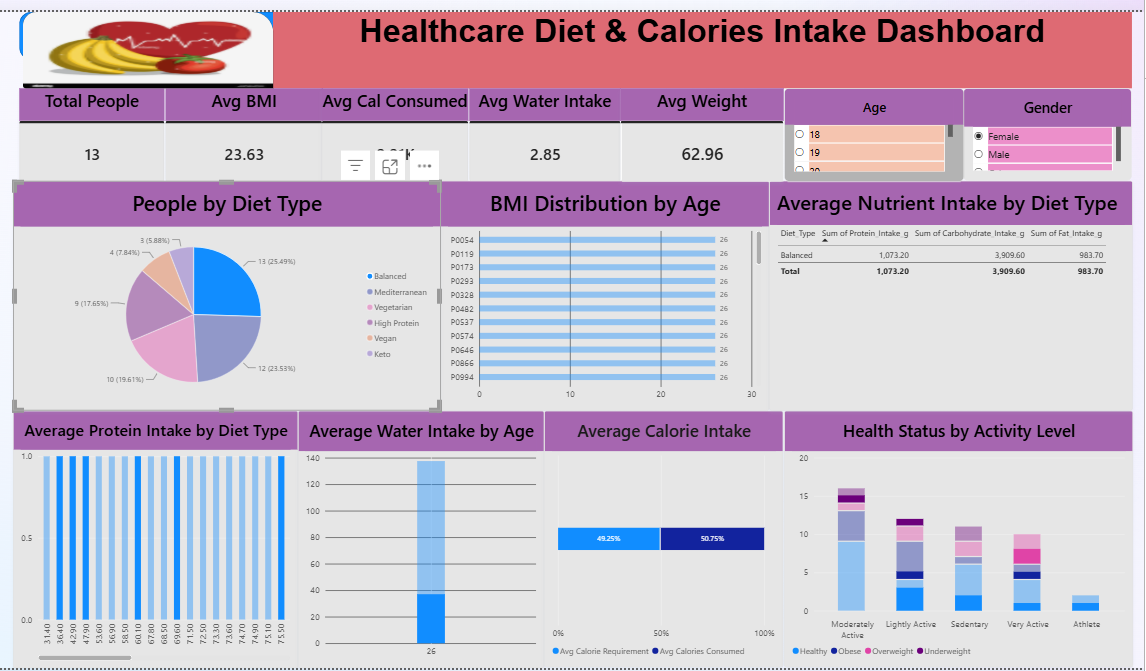

The page's visual inventory and layout, read from the dashboard file:
{"tool":"powerbi","page":{"name":"Healthcare Diet Dashboard","canvas":[1920,1080],"ordinal":0},"visuals":[{"type":"shape","box":[68.4,0,566.9,78.2],"z":0},{"type":"textbox","box":[485.8,0,1414.1,125.6],"z":1},{"type":"cardVisual","title":"Total People","fields":{"Data":["DietData.Total People"]},"box":[68.4,124.6,239.5,153.9],"z":2},{"type":"cardVisual","title":"Avg BMI","fields":{"Data":["DietData.Average BMI"]},"box":[307.9,124.6,259,153.9],"z":3},{"type":"cardVisual","title":"Avg Cal Consumed","fields":{"Data":["DietData.Avg Calories Consumed"]},"box":[566.9,124.6,241.9,153.9],"z":4},{"type":"cardVisual","title":"Avg Water Intake","fields":{"Data":["DietData.Avg Water Intake"]},"box":[808.8,124.6,249.2,153.9],"z":5},{"type":"clusteredBarChart","title":"BMI Distribution by Age","fields":{"Category":["DietData.Person_ID"],"Y":["Sum(DietData.Age)"]},"box":[761.6,277.9,541.3,378.7],"z":9},{"type":"lineStackedColumnComboChart","title":"Average Protein Intake by Diet Type","fields":{"Category":["DietData.Protein_Intake_g"],"Y":["CountNonNull(DietData.Diet_Type)"]},"box":[57.6,656.6,469.3,424],"z":10},{"type":"lineClusteredColumnComboChart","title":"Average Water Intake by Age","fields":{"Category":["DietData.Age"],"Y":["Sum(DietData.Water_Intake_Liters)"]},"box":[526.9,656.6,405.5,424],"z":11},{"type":"hundredPercentStackedBarChart","title":"Average Calorie Intake","fields":{"Y":["DietData.Avg Calorie Requirement","DietData.Avg Calories Consumed"]},"box":[933.4,657.3,393.4,422.7],"z":12},{"type":"columnChart","title":"Health Status by Activity Level","fields":{"Category":["DietData.Activity_Level"],"Series":["DietData.Health_Status"],"Y":["CountNonNull(DietData.Person_ID)"]},"box":[1326.8,657.3,574.2,422.7],"z":13},{"type":"pieChart","title":"People by Diet Type","fields":{"Category":["DietData.Diet_Type"],"Y":["CountNonNull(DietData.Person_ID)"]},"box":[57.6,277.9,703.9,378.7],"z":14},{"type":"tableEx","title":"Average Nutrient Intake by Diet Type","fields":{"Values":["DietData.Diet_Type","Sum(DietData.Protein_Intake_g)","Sum(DietData.Carbohydrate_Intake_g)","Sum(DietData.Fat_Intake_g)"]},"box":[1302.3,278.5,598.6,378.7],"z":15},{"type":"listSlicer","fields":{"Values":["DietData.Gender"]},"box":[1622,125.6,277.9,152.3],"z":16},{"type":"listSlicer","fields":{"Values":["DietData.Age"]},"box":[1326.8,124.6,295.6,153.9],"z":17},{"type":"cardVisual","title":"Avg Weight","fields":{"Data":["DietData.Average Weight"]},"box":[1058,124.6,268.8,153.9],"z":18},{"type":"image","box":[74.1,0,411.7,125.6],"z":19}]}

Visuals, with their boxes on the page's 1920x1080 design canvas (x1, y1, x2, y2). These are canvas units, not pixel positions in the 1146x671 screenshot, which may show the page scaled, cropped or inside an application window:
shape: [x1=68, y1=0, x2=635, y2=78]
textbox: [x1=486, y1=0, x2=1900, y2=126]
"Total People" cardVisual: [x1=68, y1=125, x2=308, y2=278]
"Avg BMI" cardVisual: [x1=308, y1=125, x2=567, y2=278]
"Avg Cal Consumed" cardVisual: [x1=567, y1=125, x2=809, y2=278]
"Avg Water Intake" cardVisual: [x1=809, y1=125, x2=1058, y2=278]
"BMI Distribution by Age" clusteredBarChart: [x1=762, y1=278, x2=1303, y2=657]
"Average Protein Intake by Diet Type" lineStackedColumnComboChart: [x1=58, y1=657, x2=527, y2=1081]
"Average Water Intake by Age" lineClusteredColumnComboChart: [x1=527, y1=657, x2=932, y2=1081]
"Average Calorie Intake" hundredPercentStackedBarChart: [x1=933, y1=657, x2=1327, y2=1080]
"Health Status by Activity Level" columnChart: [x1=1327, y1=657, x2=1901, y2=1080]
"People by Diet Type" pieChart: [x1=58, y1=278, x2=762, y2=657]
"Average Nutrient Intake by Diet Type" tableEx: [x1=1302, y1=278, x2=1901, y2=657]
listSlicer - DietData.Gender: [x1=1622, y1=126, x2=1900, y2=278]
listSlicer - DietData.Age: [x1=1327, y1=125, x2=1622, y2=278]
"Avg Weight" cardVisual: [x1=1058, y1=125, x2=1327, y2=278]
image: [x1=74, y1=0, x2=486, y2=126]
